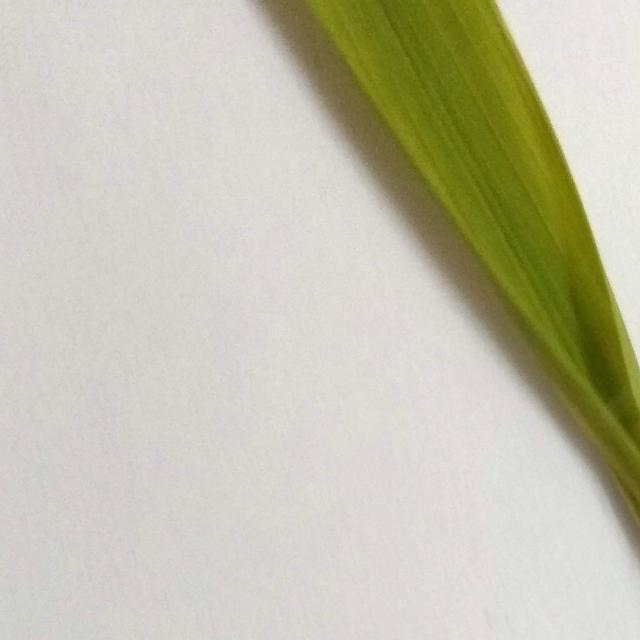Rice_Healthy: (305, 0, 640, 524)
